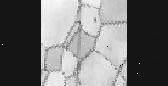good_void: (93, 15, 97, 23)
